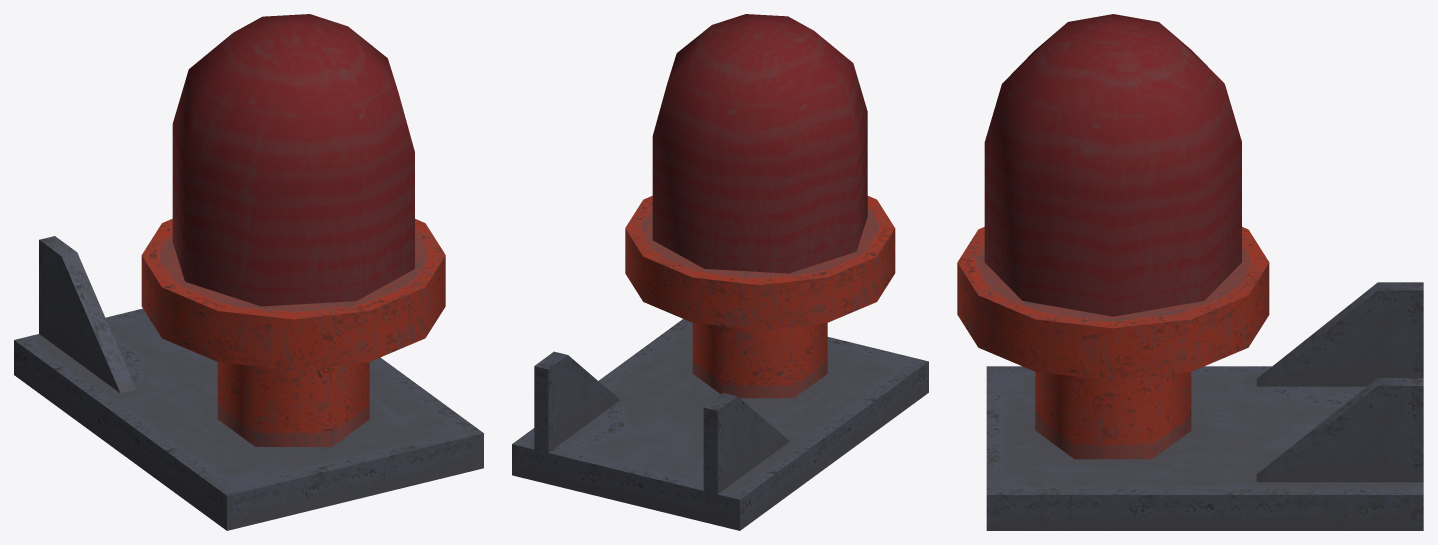
File: jctObstacleLightA.fbx
3 views of the same model, side by side, from view 1: azimuth 30°, elevation 25°; view 2: azimuth 150°, elevation 25°; view 3: azimuth 270°, elevation 25° (orthographic). The views are drawn at different scales.
Visible parts, largest first — view 1: jctObstacleLightA; view 2: jctObstacleLightA; view 3: jctObstacleLightA.
Boxes of the visible parts, box(x1,y1,x2,y2) form: jctObstacleLightA: box(14, 14, 483, 530); jctObstacleLightA: box(512, 14, 928, 530); jctObstacleLightA: box(957, 14, 1423, 530).
Bounding box in the file's own units: 44 × 68.64 × 65.74.
